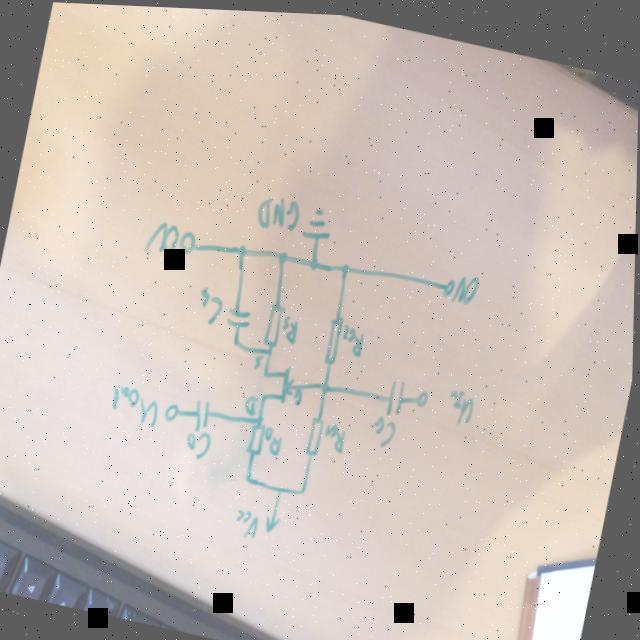capacitor: (383, 373, 410, 415), (190, 394, 215, 432), (224, 301, 254, 330)
ground: (300, 201, 336, 241)
junction: (319, 376, 332, 393), (236, 239, 248, 257), (277, 246, 289, 263), (308, 252, 320, 269), (340, 258, 351, 273), (256, 411, 267, 424), (276, 481, 286, 493), (233, 334, 241, 346), (245, 472, 254, 482), (267, 346, 275, 355), (301, 484, 308, 494)
resistor: (322, 310, 346, 365), (262, 298, 287, 347), (305, 411, 328, 456), (247, 420, 269, 455)
source: (264, 512, 283, 532)
terminal: (178, 227, 199, 256), (163, 398, 183, 423), (416, 384, 431, 406), (443, 272, 456, 294)
text: (109, 380, 163, 428), (254, 190, 303, 233), (144, 217, 182, 257), (194, 282, 227, 325), (445, 382, 478, 423), (370, 410, 400, 447), (339, 319, 368, 356), (451, 268, 481, 303), (234, 504, 263, 537), (185, 427, 214, 460), (322, 418, 349, 452), (261, 421, 286, 455), (279, 311, 302, 344), (244, 392, 259, 414), (292, 384, 305, 405), (254, 351, 266, 368)
transistor: (258, 358, 298, 403)
